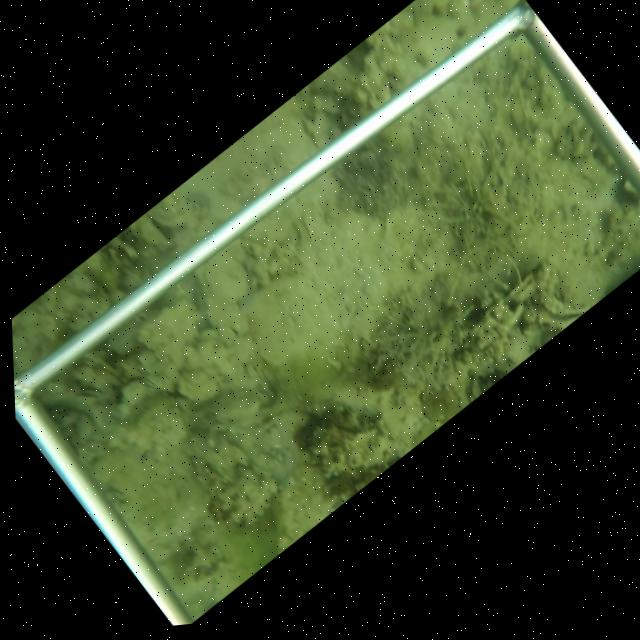Oyster-Indeterminate: (136, 289, 201, 371)
Oyster-Open: (529, 259, 596, 331), (508, 271, 533, 303), (73, 387, 107, 406)
